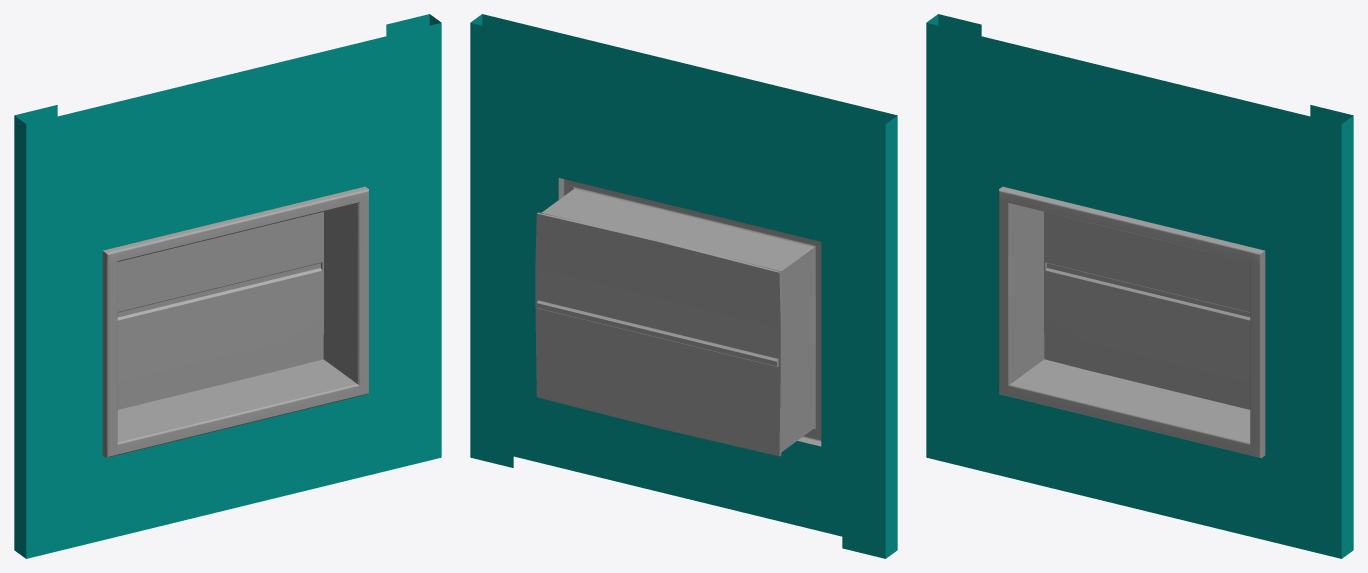
Rendered from EN_W_hatch.fbx.
The picture shows the model from 3 angles, left to right: view 1: azimuth 30°, elevation 25°; view 2: azimuth 150°, elevation 25°; view 3: azimuth 330°, elevation 25°; orthographic projection.
Visible parts, largest first — view 1: EN_W_hatch; view 2: EN_W_hatch; view 3: EN_W_hatch.
Part boxes in pixels (bbox=[...]): EN_W_hatch: bbox=[14, 14, 441, 558]; EN_W_hatch: bbox=[470, 14, 897, 558]; EN_W_hatch: bbox=[926, 14, 1353, 558].
Size of the model in its own units: 400 by 400 by 62.82.
